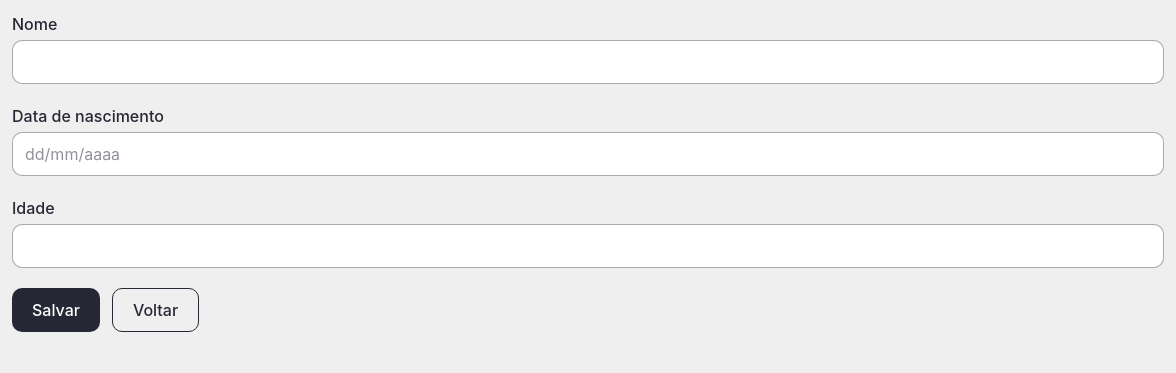
it: PessoaFormComponent › should reject a date that does not exist or is in the future
Step 1. Type "31022000" into the field labelled "Data de nascimento" → (588, 154), box [12,132,1164,176]
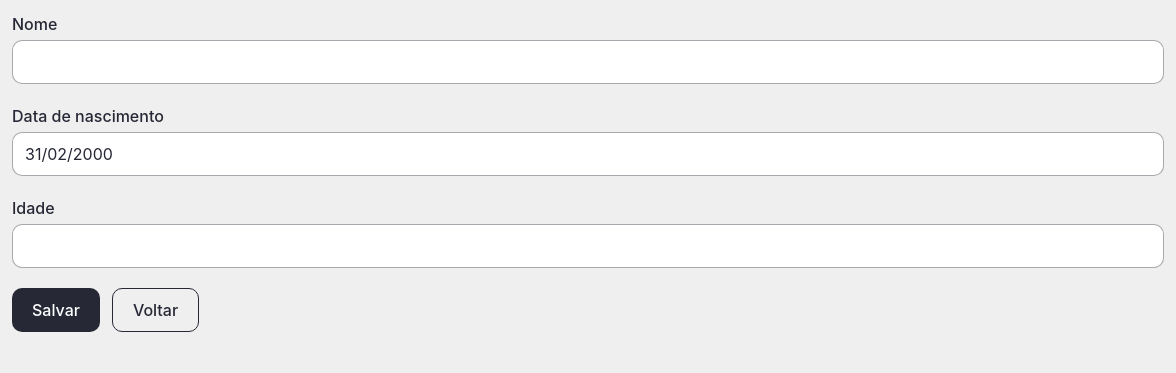
Step 2. Leave the field labelled "Data de nascimento", box [12,132,1164,176]
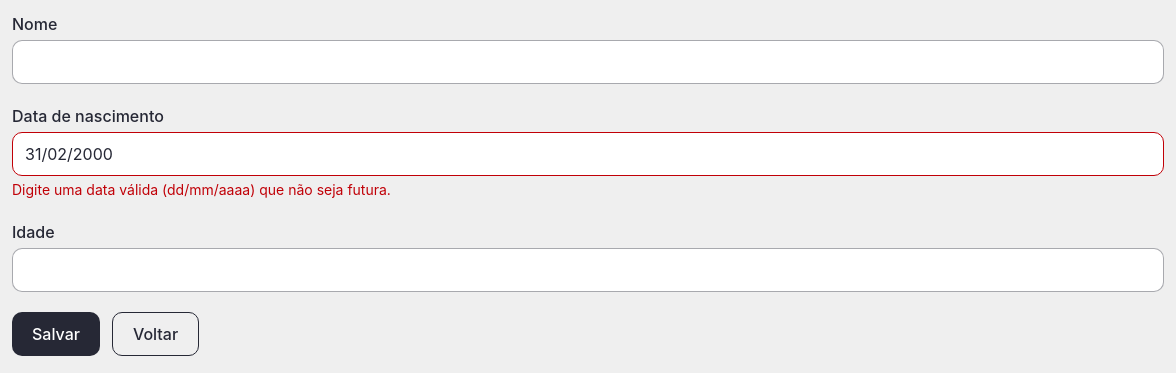
Check: the text "Digite uma data válida" is shown, box [12,181,391,198]
Step 3. Replace the text in the field labelled "Data de nascimento" with "01012999" → (588, 154), box [12,132,1164,176]
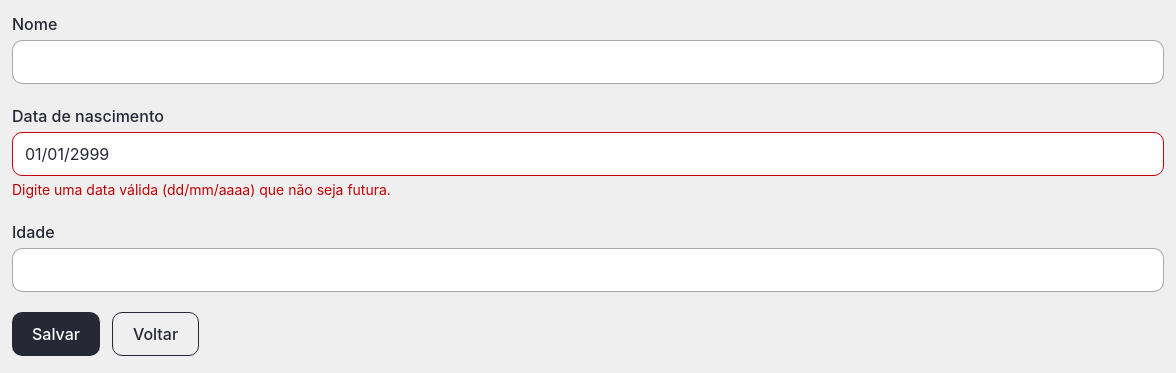
Check: the text "Digite uma data válida" is shown, box [12,181,391,198]
Step 4. Replace the text in the field labelled "Data de nascimento" with "01012000" → (588, 154), box [12,132,1164,176]
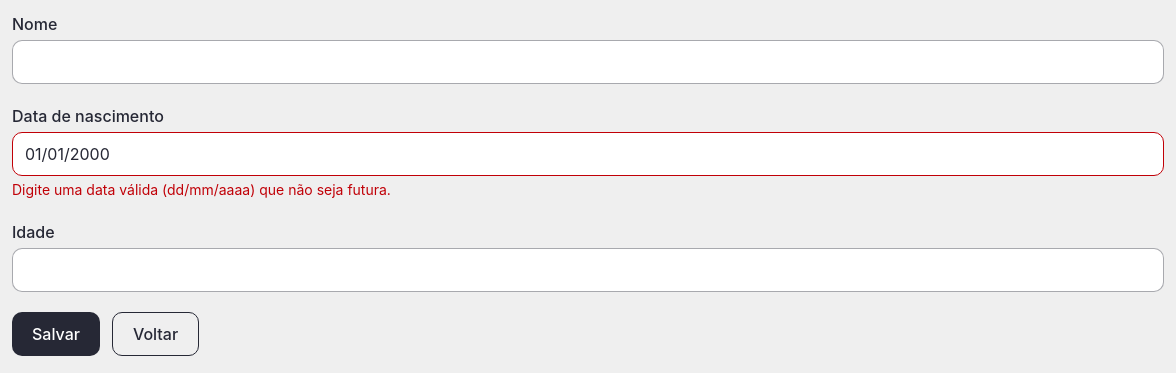
Step 5. Leave the field labelled "Data de nascimento", box [12,132,1164,176]
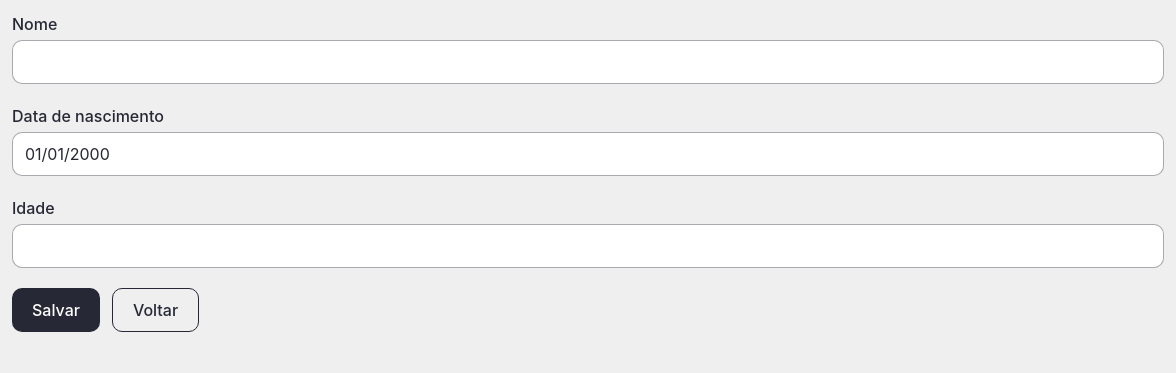
Check: the text "Digite uma data válida" is gone
